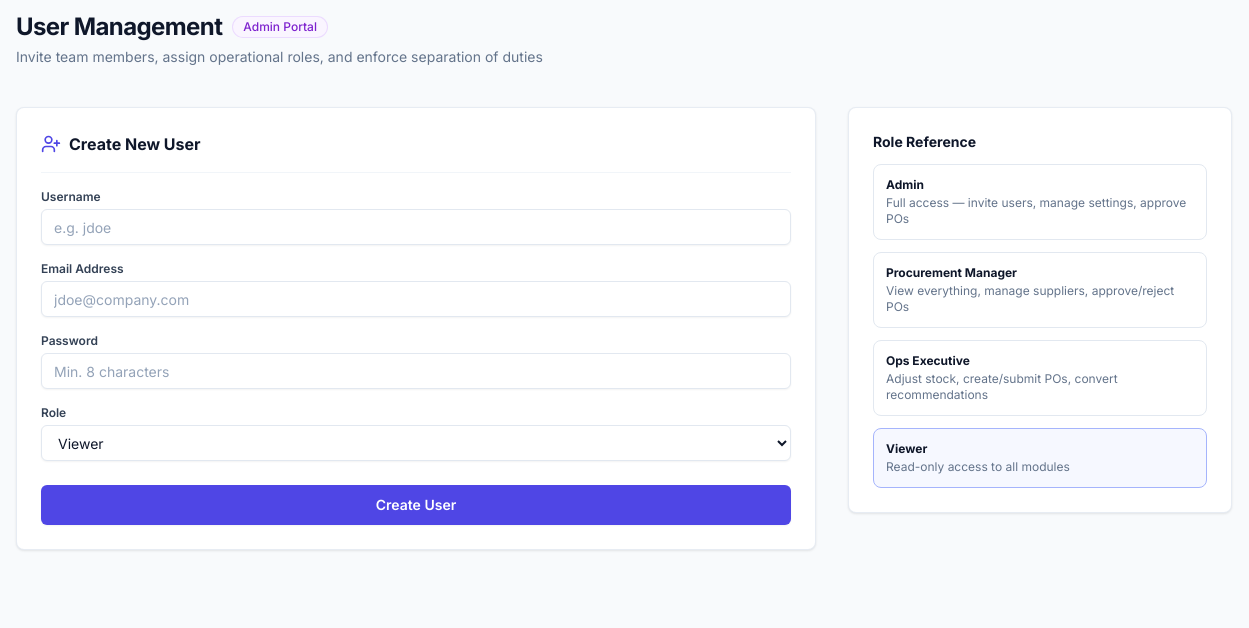
Test: AdminUserManagementPage › Form Validation › should show error for username with invalid characters
This screenshot has width=1249, height=628.
Type "john doe!" into the field labelled "Username".
click(416, 227); type("john doe!")  # box [41, 209, 791, 245]
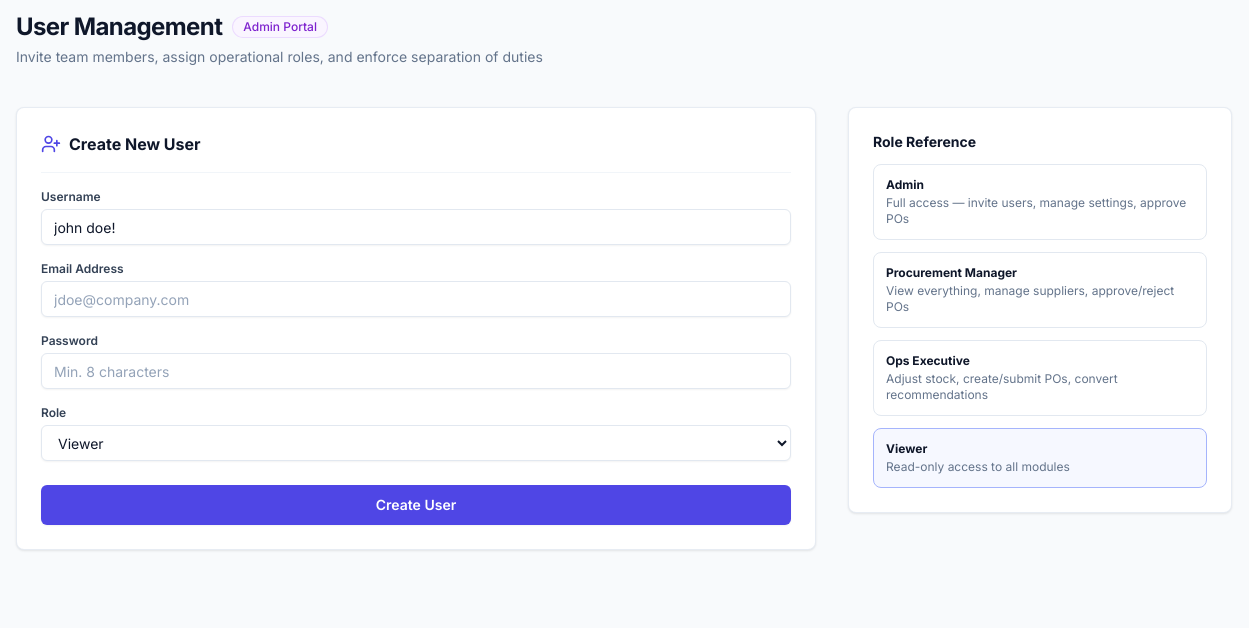
Click the button "Create User".
click(416, 505)  # box [41, 485, 791, 525]
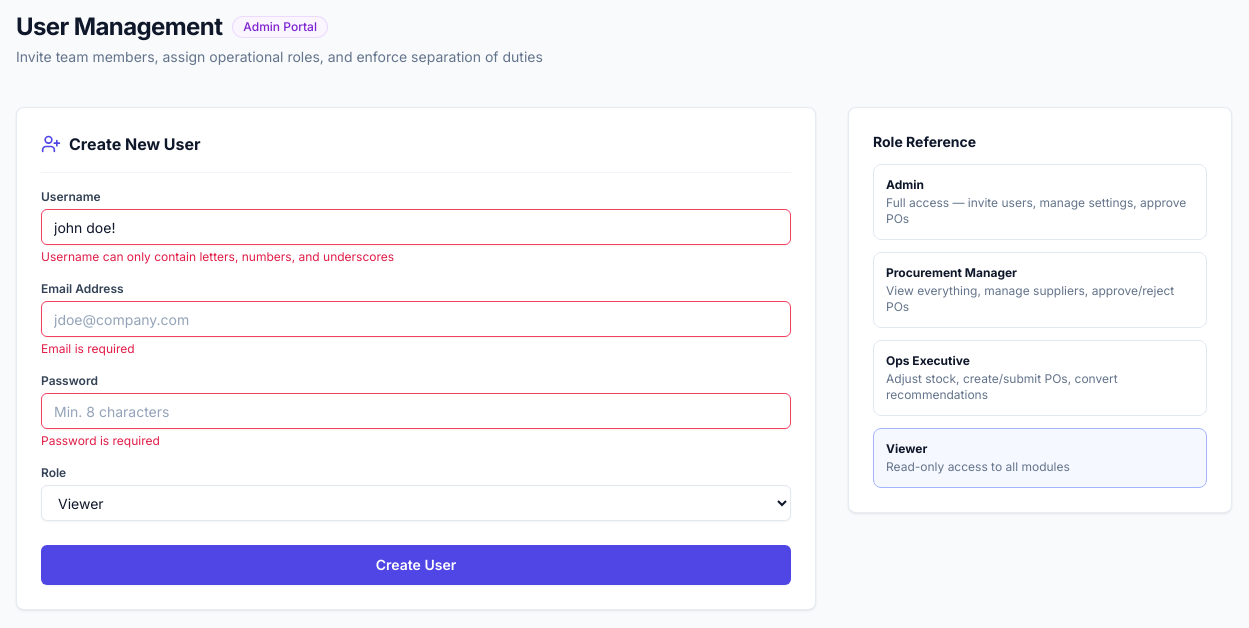
Result: the text "Username can only contain letters, numbers, and underscores" is shown at [41, 249, 394, 264]
